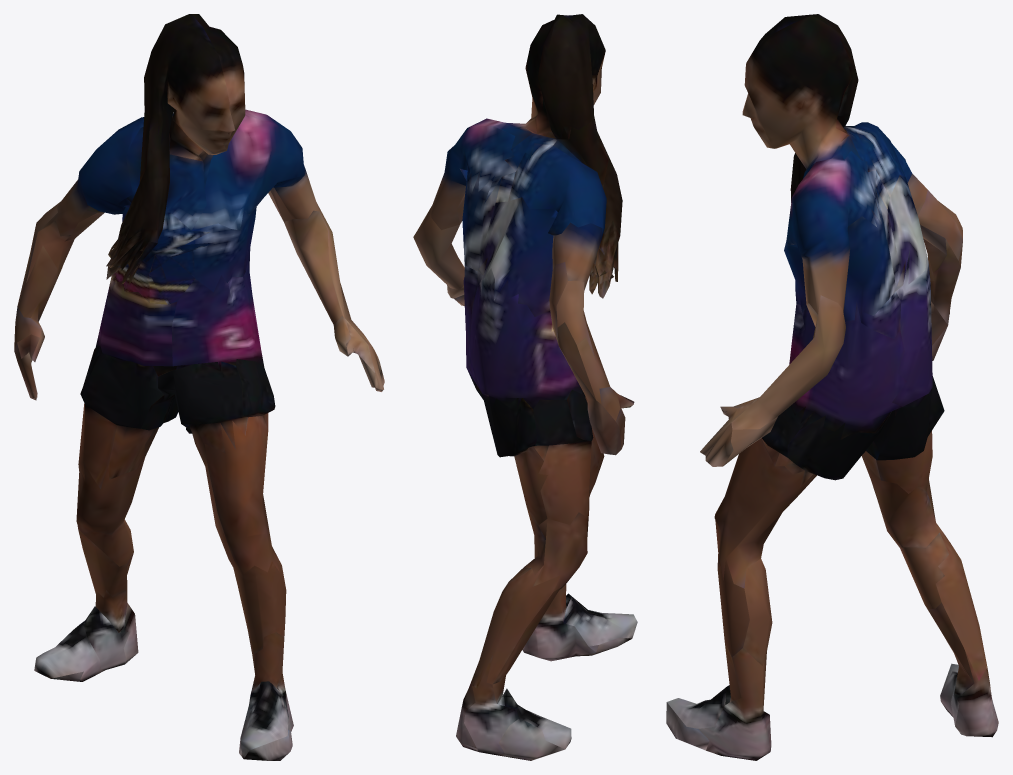
Rendered from half_2_idle_lod2.glb.
3 views of the same model, side by side, from view 1: azimuth 30°, elevation 25°; view 2: azimuth 150°, elevation 25°; view 3: azimuth 270°, elevation 25° (orthographic). The views are drawn at different scales.
Visible parts, largest first — view 1: Idle; view 2: Idle; view 3: Idle.
Part boxes in pixels (x1,y1,x2,y2): Idle: [14, 14, 384, 760]; Idle: [413, 14, 637, 760]; Idle: [666, 14, 998, 760].
Bounding box in the file's own units: 38.05 × 95.59 × 40.24.
1 material, 1 textured.
